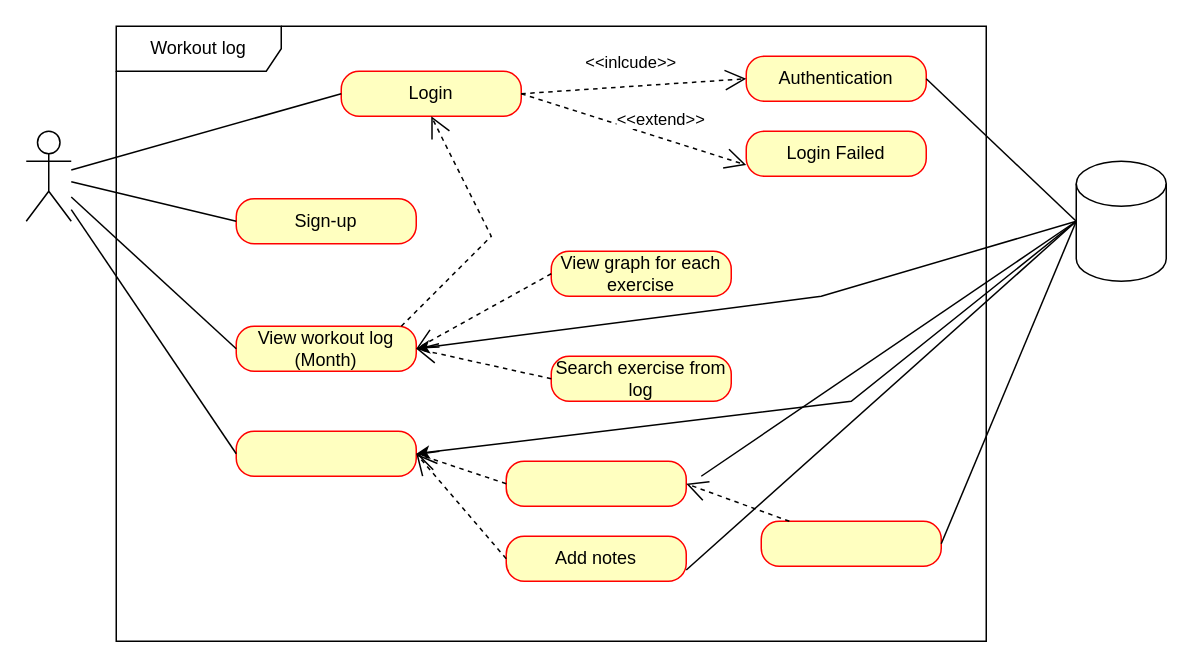
The diagram is 1193 pixels wide and 668 high, and some of its shapes have lost their labels. Each missing label, with the centre of its shape:
"Add exercise" goes at point 850,543.
"Add, Modify, Delete workout log" goes at point 595,483.
"Change view (Month, Week, Day)" goes at point 325,453.
"DB" goes at point 1120,220.
"User" goes at point 48,175.
